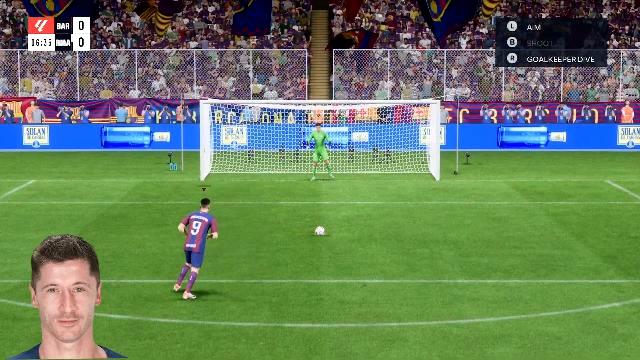bottom-left: (205, 148, 282, 180)
bottom-right: (358, 148, 434, 180)
center-down: (284, 148, 356, 180)
center-up: (286, 106, 354, 146)
football: (314, 228, 326, 236)
goalkeeper: (298, 124, 348, 182)
player: (177, 196, 235, 302)
top-left: (204, 105, 282, 145)
top-right: (357, 105, 435, 145)
